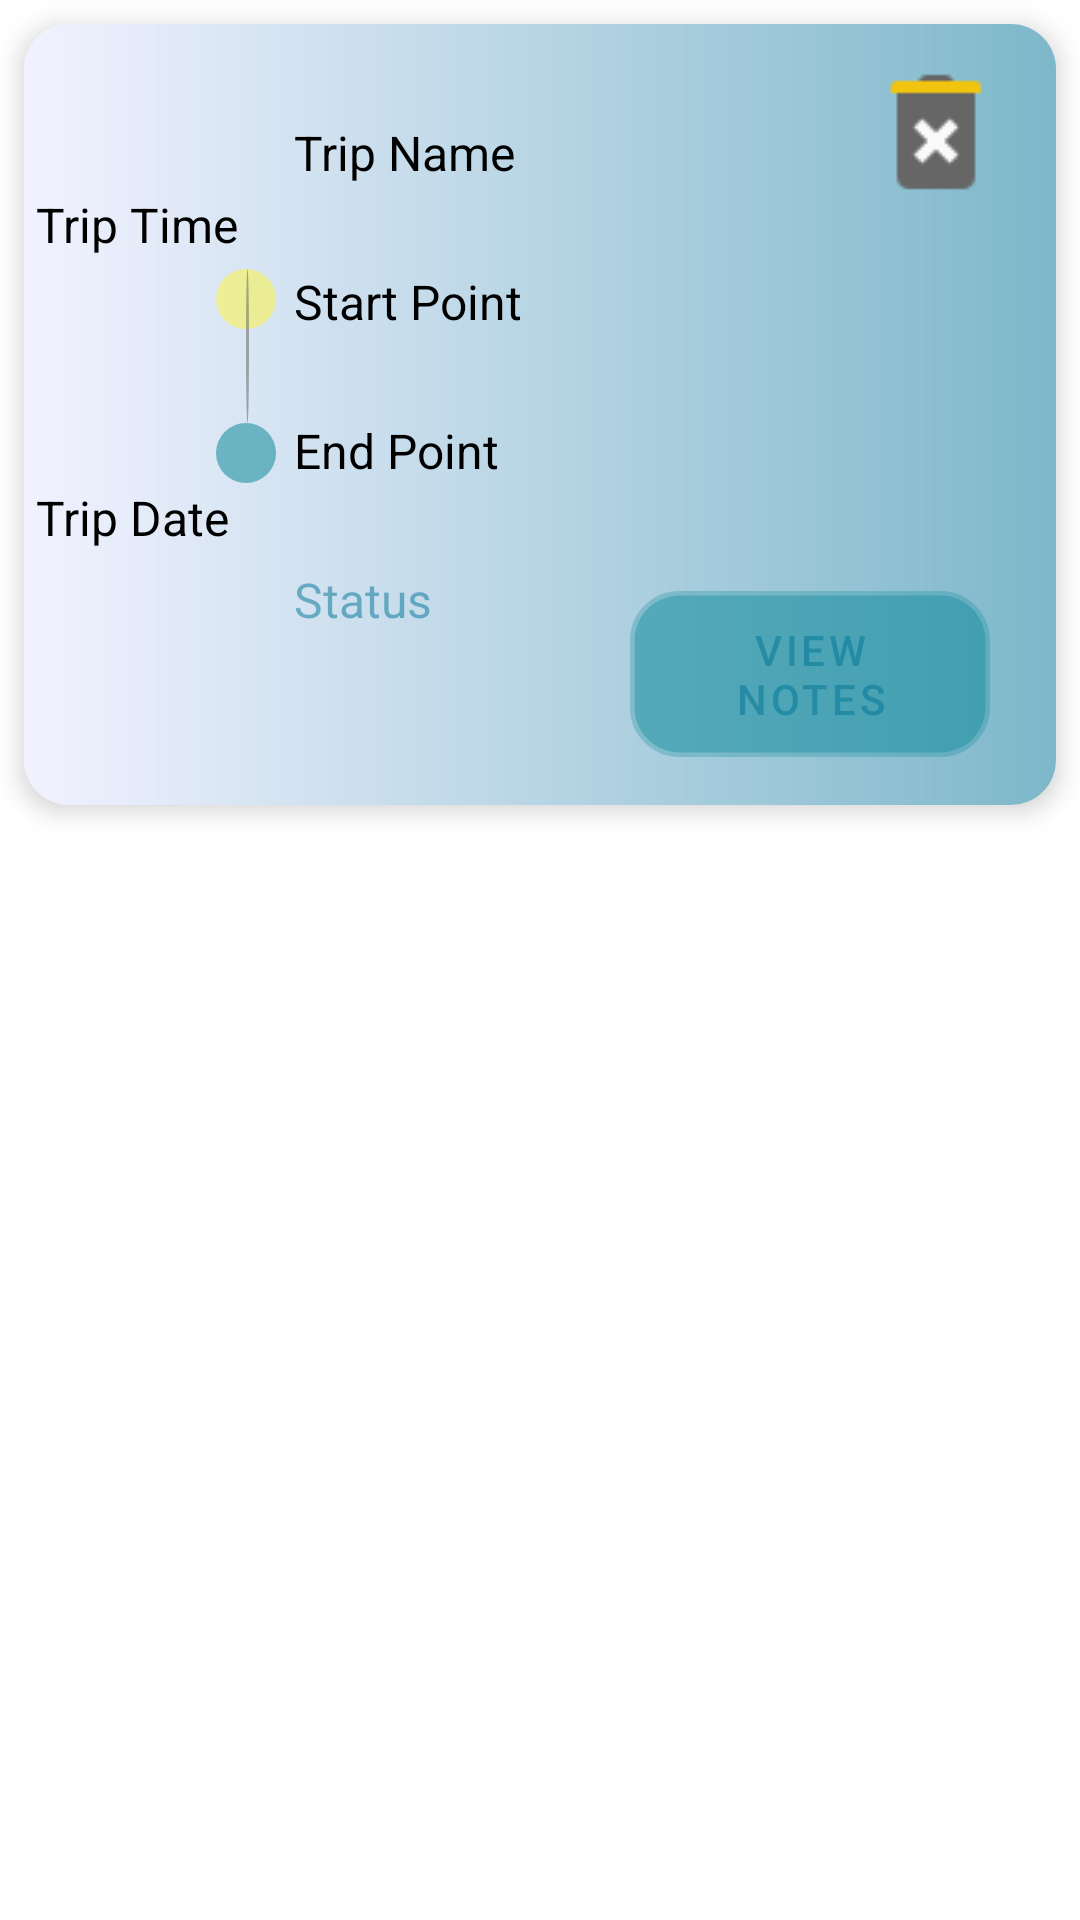

Icons on this 1080w x 1920h Android screen, each with the point to tap as [x,y]:
deletebin: [936,132]
